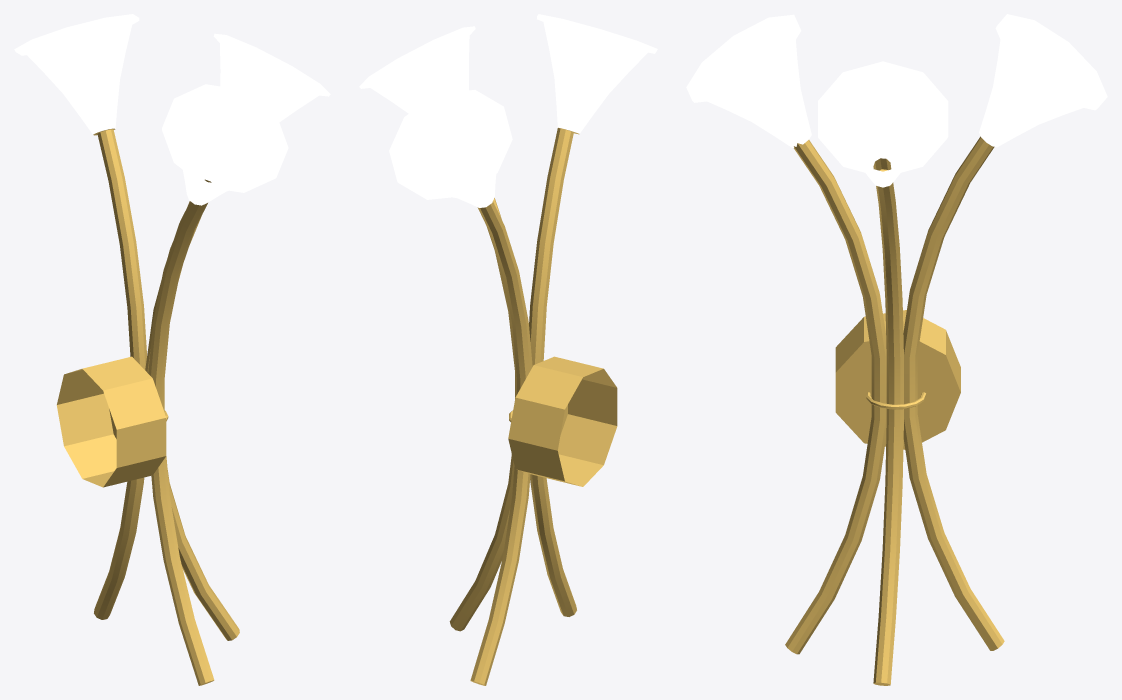
File: ELT0110053.fbx
3 renders of one model, left to right at view 1: azimuth 30°, elevation 25°; view 2: azimuth 150°, elevation 25°; view 3: azimuth 270°, elevation 25°, orthographic. The views are drawn at different scales.
Visible parts, largest first — view 1: smELT0110053; view 2: smELT0110053; view 3: smELT0110053.
Boxes of the visible parts, box(x1,y1,x2,y2) form: smELT0110053: box(14, 14, 330, 685); smELT0110053: box(359, 14, 657, 685); smELT0110053: box(686, 14, 1107, 685).
Bounding box in the file's own units: 34.64 × 87.6 × 53.42.
Materials: 1 (1 with a texture image).
